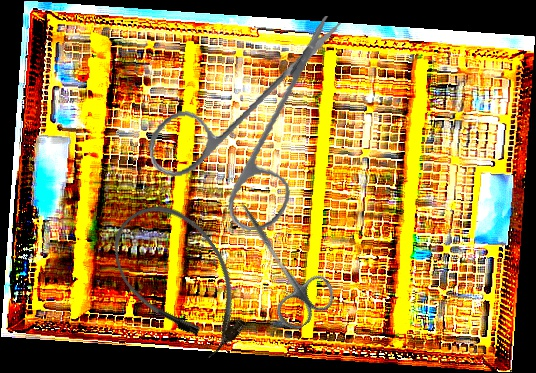Cannula: (95, 186, 267, 372)
Iris Scissors: (134, 14, 368, 243), (213, 186, 342, 336)
